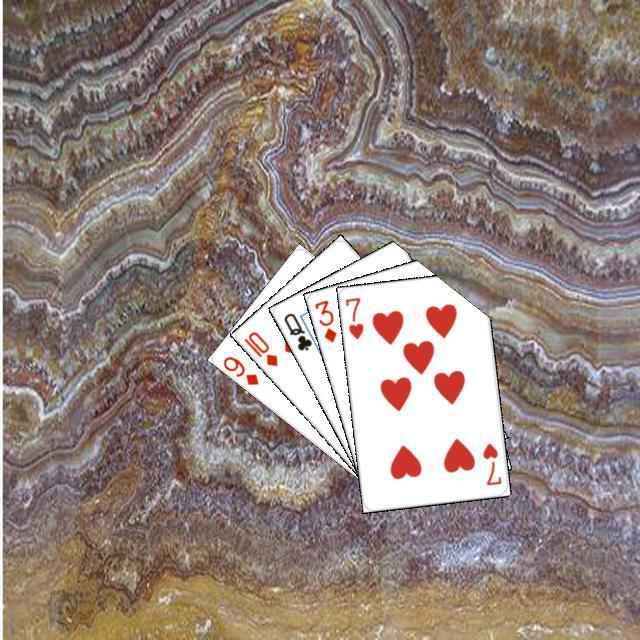10d: (239, 326, 279, 368)
3d: (309, 295, 338, 344)
7h: (340, 292, 365, 341), (478, 438, 503, 487)
9d: (218, 351, 261, 387)
Qc: (279, 308, 320, 352)
